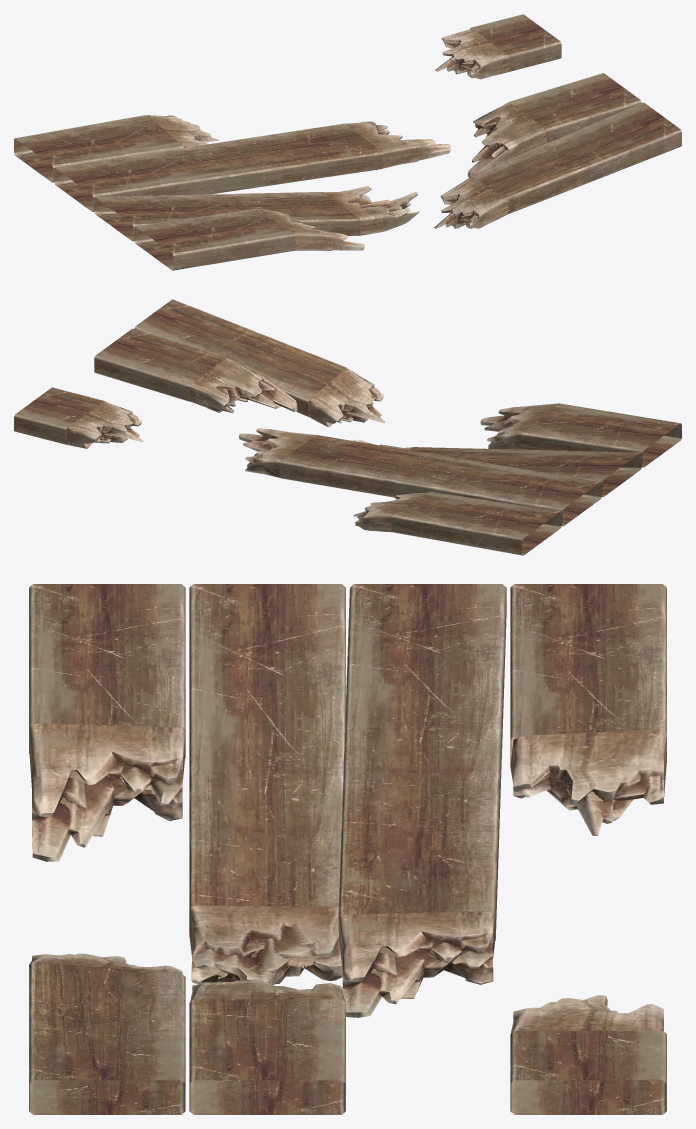
3 views of the same model, one above another, from view 1: azimuth 30°, elevation 25°; view 2: azimuth 150°, elevation 25°; view 3: azimuth 270°, elevation 25° (orthographic). The views are drawn at different scales.
Visible parts, largest first — view 1: SM_BrokenWood_01_LOD0; view 2: SM_BrokenWood_01_LOD0; view 3: SM_BrokenWood_01_LOD0.
Boxes of the visible parts, x1,y1,x2,y2 form: SM_BrokenWood_01_LOD0: [14, 14, 681, 270]; SM_BrokenWood_01_LOD0: [14, 299, 681, 555]; SM_BrokenWood_01_LOD0: [29, 584, 666, 1114].
Size of the model in its own units: 4.14 by 0.5585 by 2.25.
1 material, 1 textured.
